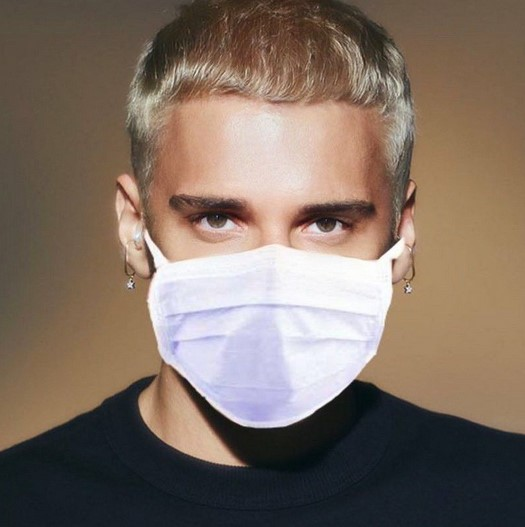face_with_mask: (113, 5, 420, 432)
